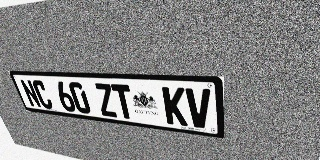0: (67, 82, 92, 114)
6: (53, 81, 77, 112)
C: (31, 80, 54, 109)
K: (162, 87, 188, 126)
N: (19, 79, 42, 108)
T: (110, 84, 136, 120)
V: (185, 88, 211, 129)
Z: (93, 83, 118, 117)
